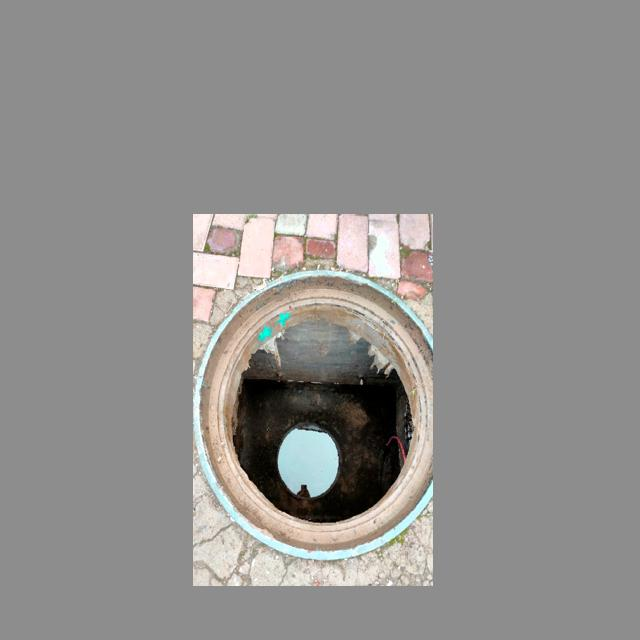lose: (195, 269, 432, 560)
